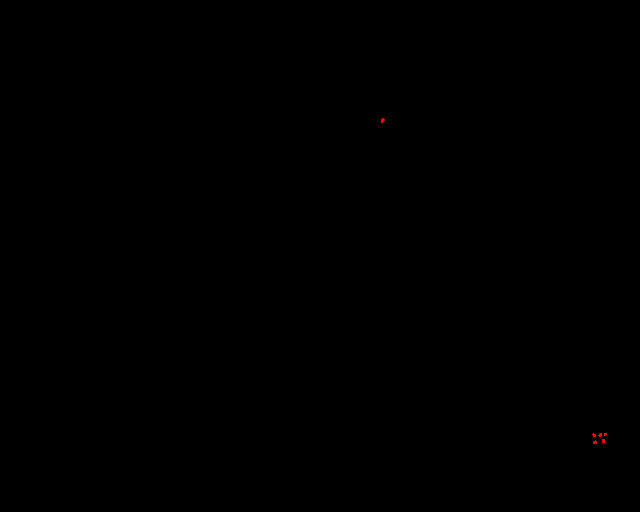Target: (381, 118, 385, 123), (592, 433, 596, 437), (598, 433, 602, 437), (593, 440, 597, 444), (602, 439, 605, 443), (604, 433, 607, 436)
